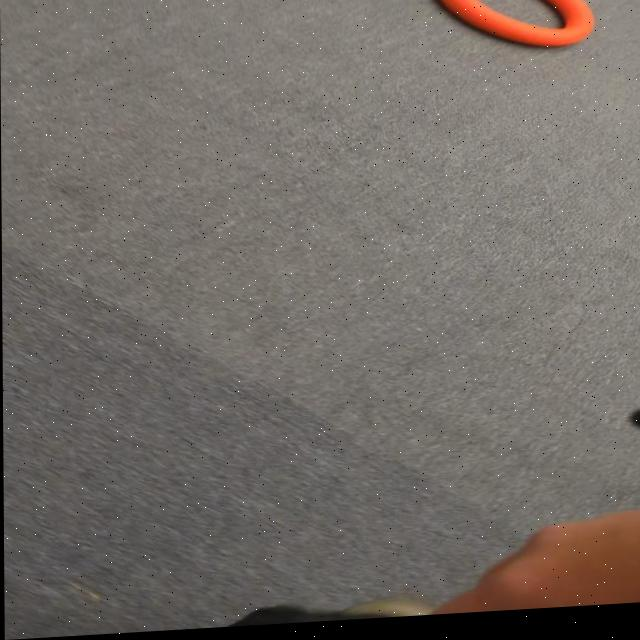note: (428, 0, 594, 58)
